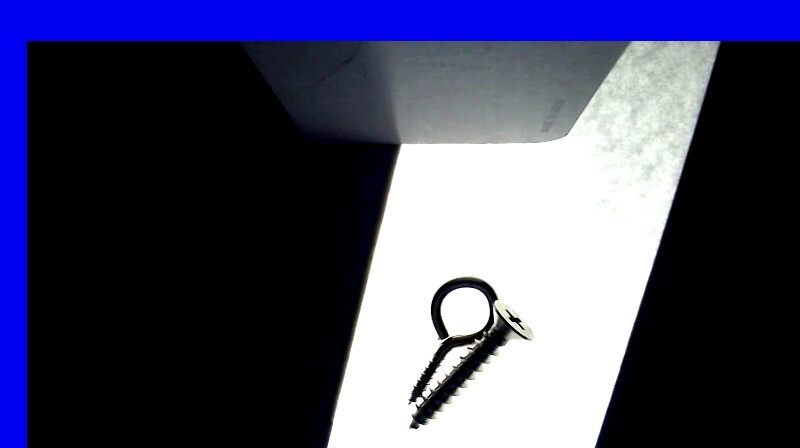O001: (405, 273, 499, 405)
S001: (407, 299, 535, 428)
